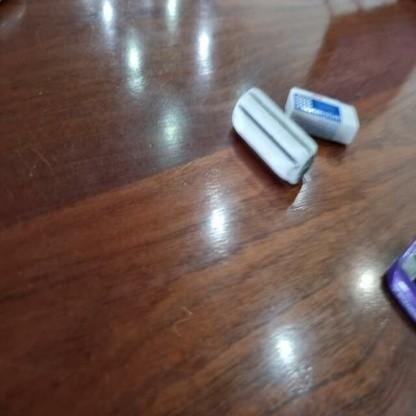not trash: (228, 91, 314, 183), (378, 237, 416, 337), (285, 87, 356, 140)
